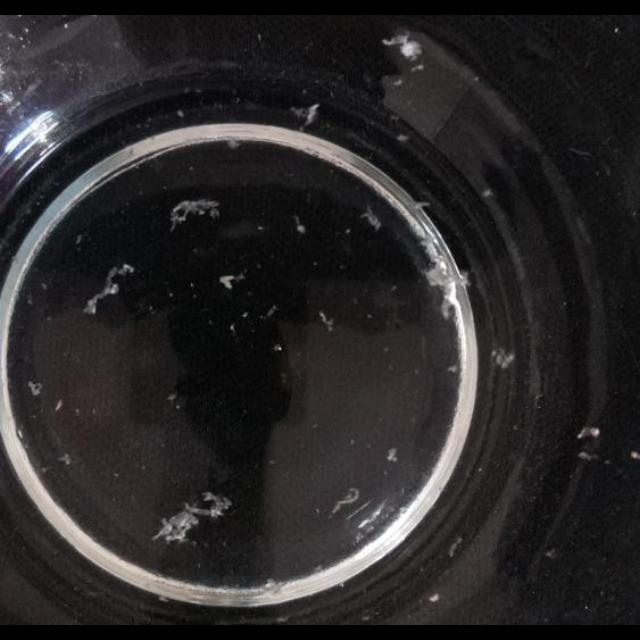Fibre: (152, 494, 232, 544), (419, 249, 466, 321), (82, 264, 136, 314), (169, 198, 221, 232), (384, 31, 422, 64), (199, 490, 233, 516), (329, 488, 358, 516), (290, 104, 318, 128), (361, 207, 383, 231), (218, 271, 246, 289), (318, 310, 334, 332), (27, 381, 43, 397), (56, 452, 72, 466), (386, 448, 398, 462)
microbeads: (492, 348, 514, 370), (576, 426, 600, 440), (448, 536, 462, 558), (166, 392, 178, 402), (230, 322, 238, 336), (54, 398, 62, 412), (428, 593, 439, 603), (447, 364, 458, 374), (628, 450, 638, 460), (296, 223, 306, 233), (546, 548, 556, 558), (272, 344, 282, 352), (392, 79, 402, 87), (177, 110, 186, 118), (241, 311, 249, 319), (348, 438, 356, 446), (344, 228, 352, 236)
